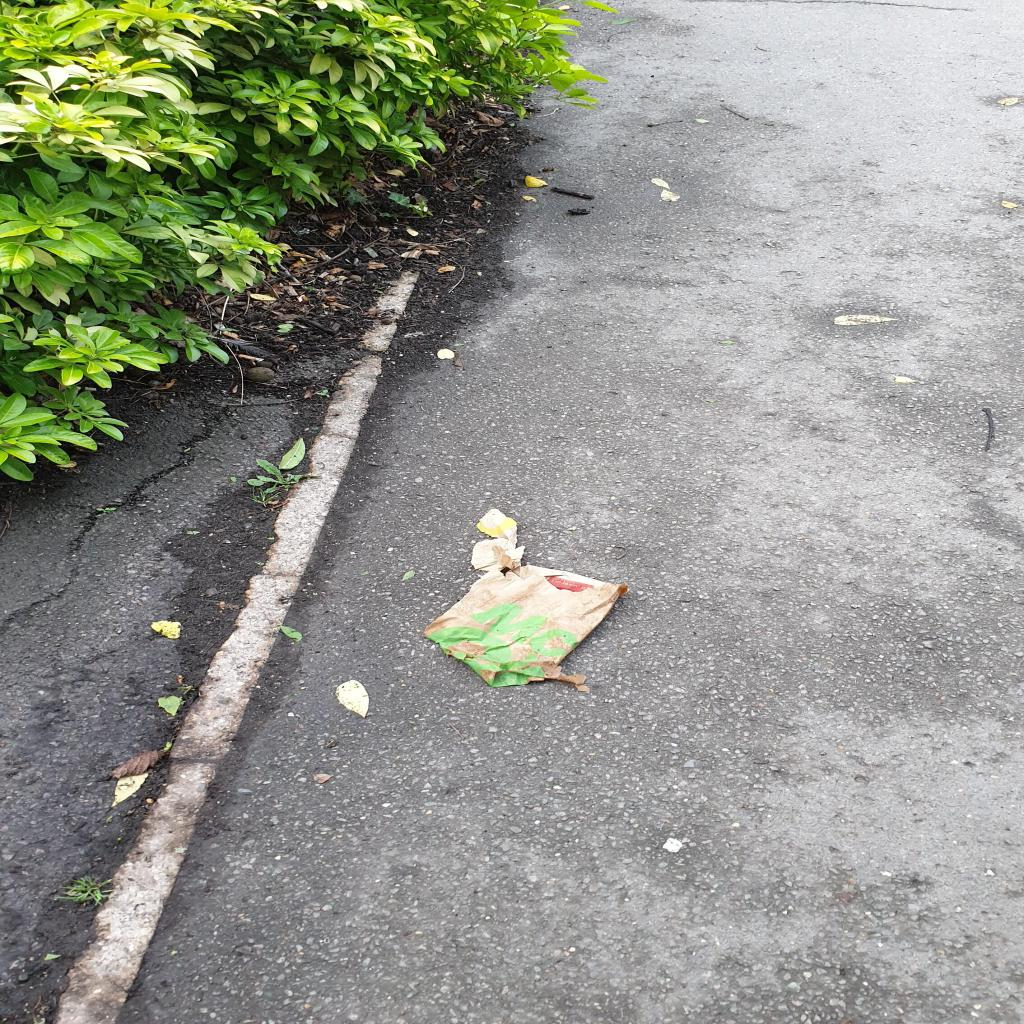Cigarette: (239, 354, 263, 363)
Paper bag: (423, 509, 628, 687)
